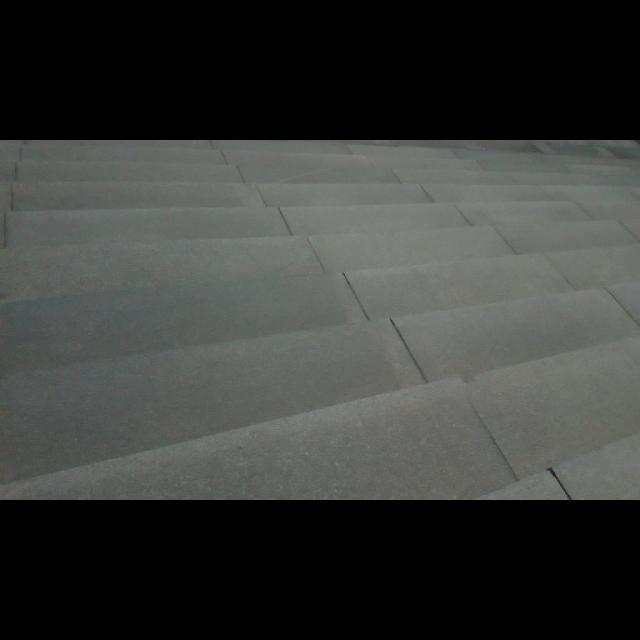stair: (2, 142, 640, 490)
